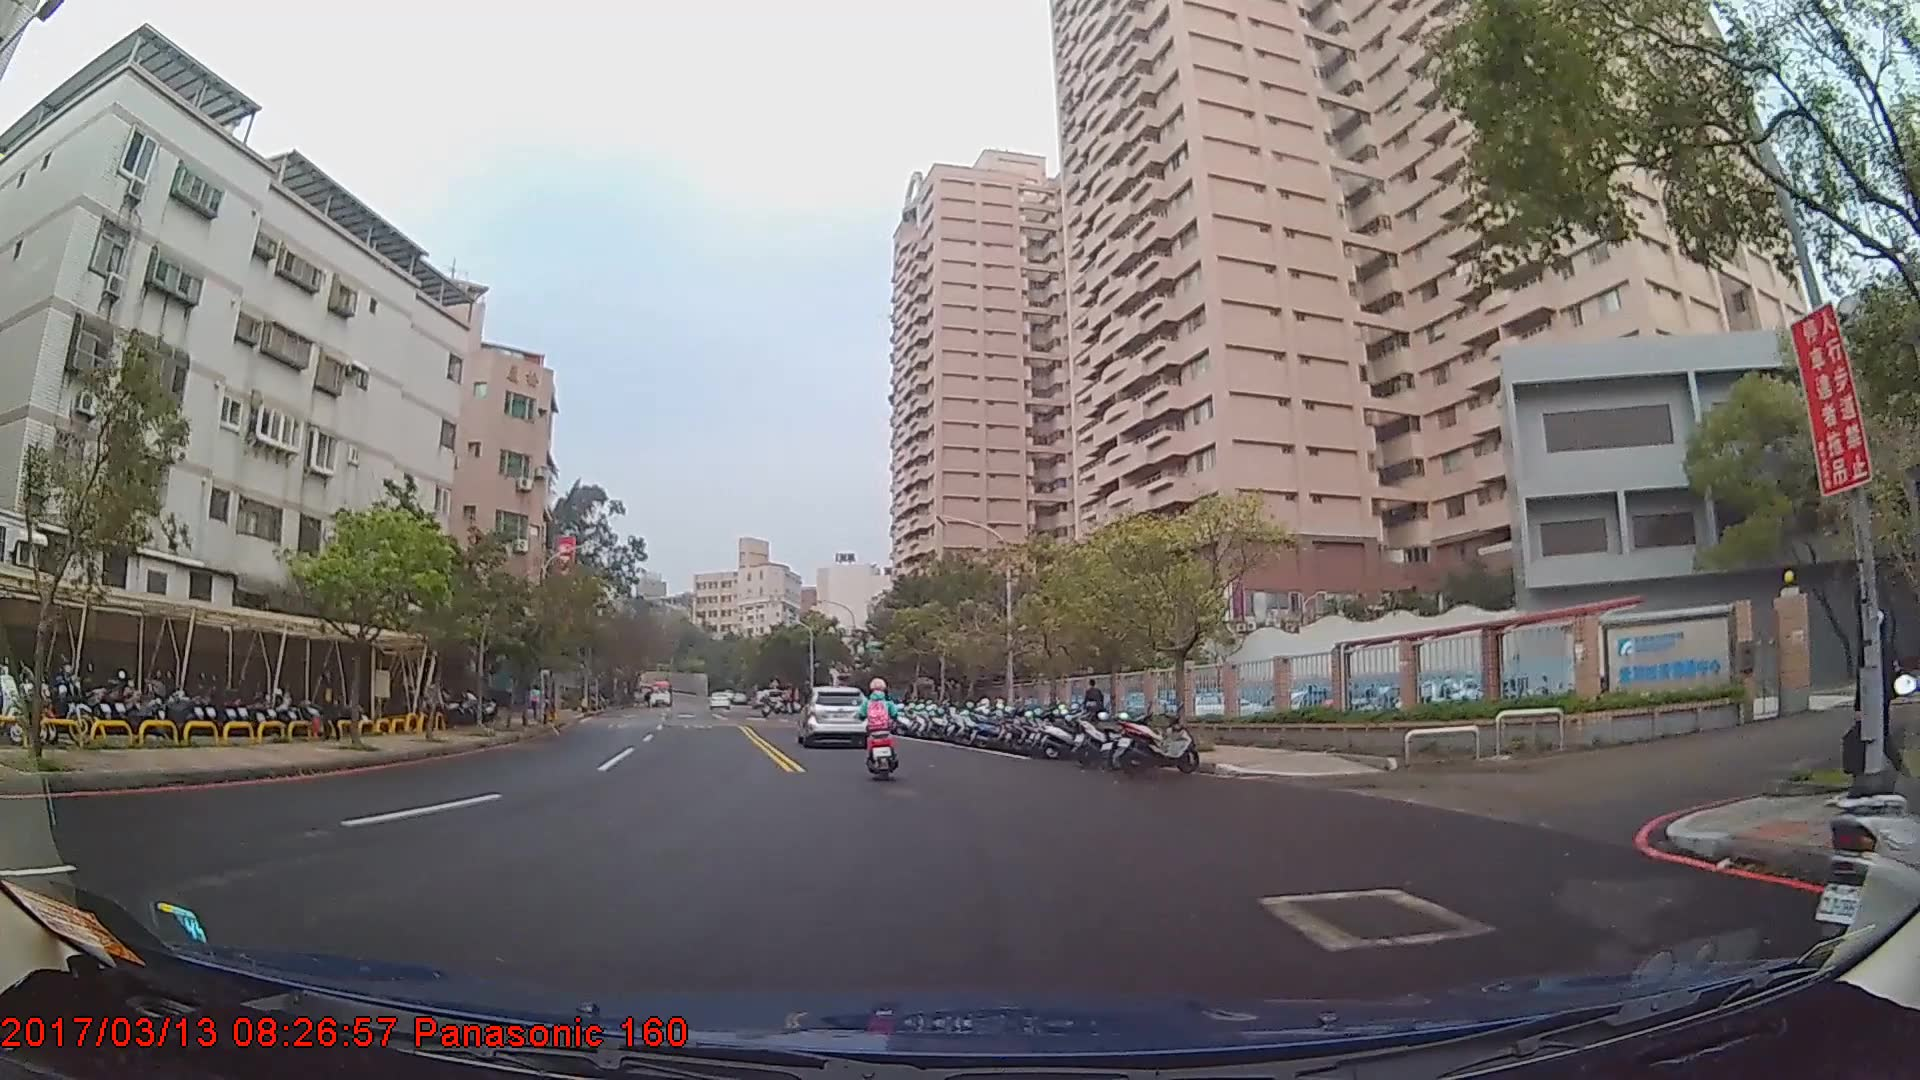pedestrian: (1830, 563, 1899, 819), (319, 663, 344, 738), (1085, 678, 1106, 740)
rider: (857, 675, 899, 769)
vehicle: (798, 683, 873, 746), (646, 679, 675, 708)
